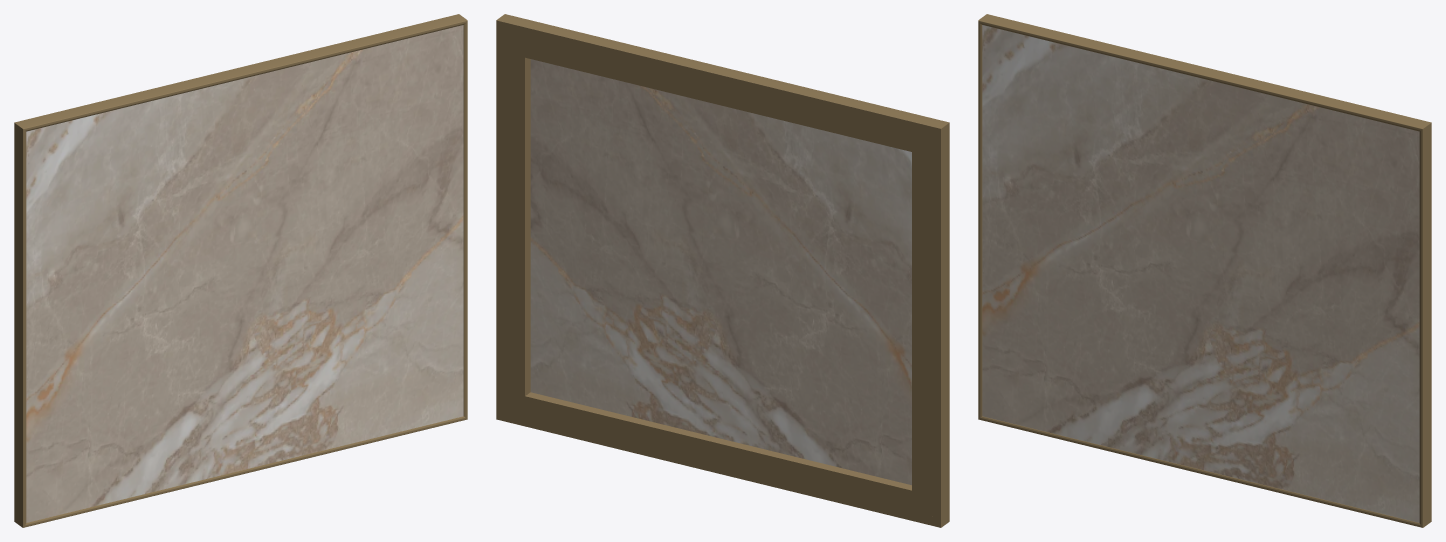
The picture shows the model from 3 angles, left to right: view 1: azimuth 30°, elevation 25°; view 2: azimuth 150°, elevation 25°; view 3: azimuth 330°, elevation 25°; orthographic projection.
Parts seen in each view (by area): view 1: Object_node, Extrusion, Extrusion_node_1, Extrusion_node_0, Extrusion_node; view 2: Object_node, Extrusion, Extrusion_node_0, Extrusion_node_1, Extrusion_node; view 3: Object_node, Extrusion, Extrusion_node, Extrusion_node_0, Extrusion_node_1.
Part boxes in pixels (x1,y1,x2,y2): Object_node: (26, 25, 463, 522); Extrusion: (14, 14, 467, 131); Extrusion_node_1: (14, 123, 26, 527); Extrusion_node_0: (23, 416, 467, 527); Extrusion_node: (463, 21, 467, 418); Object_node: (530, 59, 911, 485); Extrusion: (496, 14, 949, 151); Extrusion_node_0: (496, 392, 940, 527); Extrusion_node_1: (912, 123, 949, 527); Extrusion_node: (496, 20, 530, 418); Object_node: (982, 25, 1419, 522); Extrusion: (978, 14, 1431, 131); Extrusion_node: (1419, 123, 1431, 527); Extrusion_node_0: (978, 416, 1422, 527); Extrusion_node_1: (978, 21, 982, 418).
Size of the model in its own units: 0.7 by 0.6 by 0.0242.
Materials: 2 (1 with a texture image).
